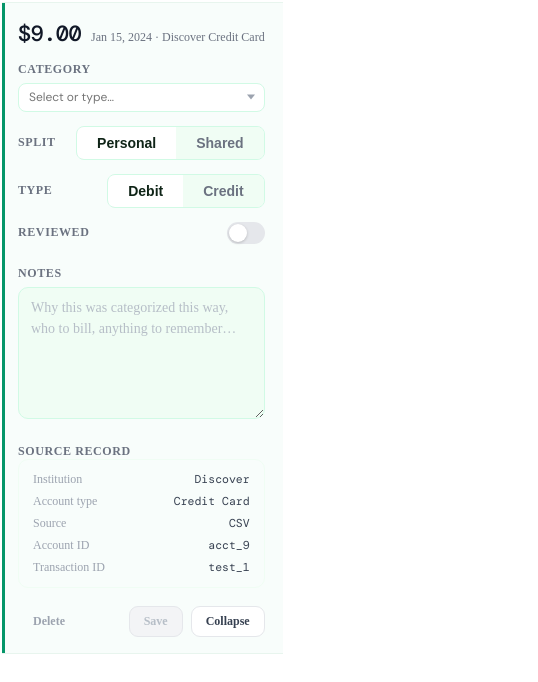
Test: clicking Shared reveals the who/what/owed fields
The width and height of the screenshot is (538, 682).
Click the button "Shared" at (220, 143), box [176, 127, 264, 159]
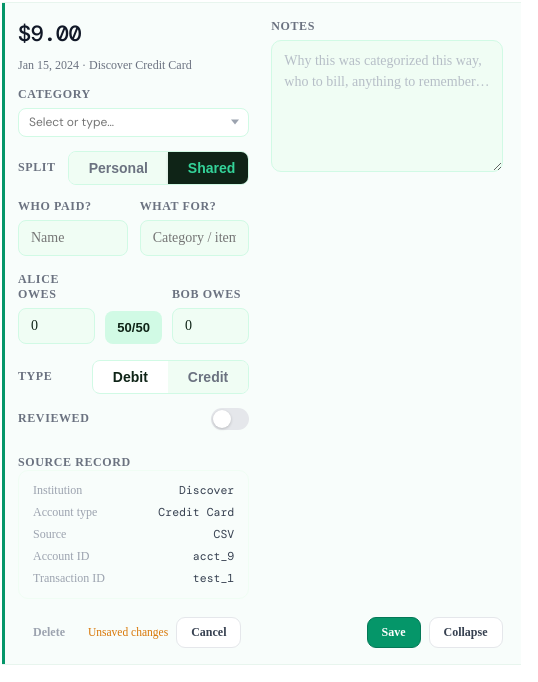
Result: the field labelled "Who paid?" is shown at [18, 220, 128, 256]
Result: the field labelled "What for?" is shown at [140, 220, 249, 256]
Result: the number field labelled "Alice owes" is shown at [18, 308, 95, 344]
